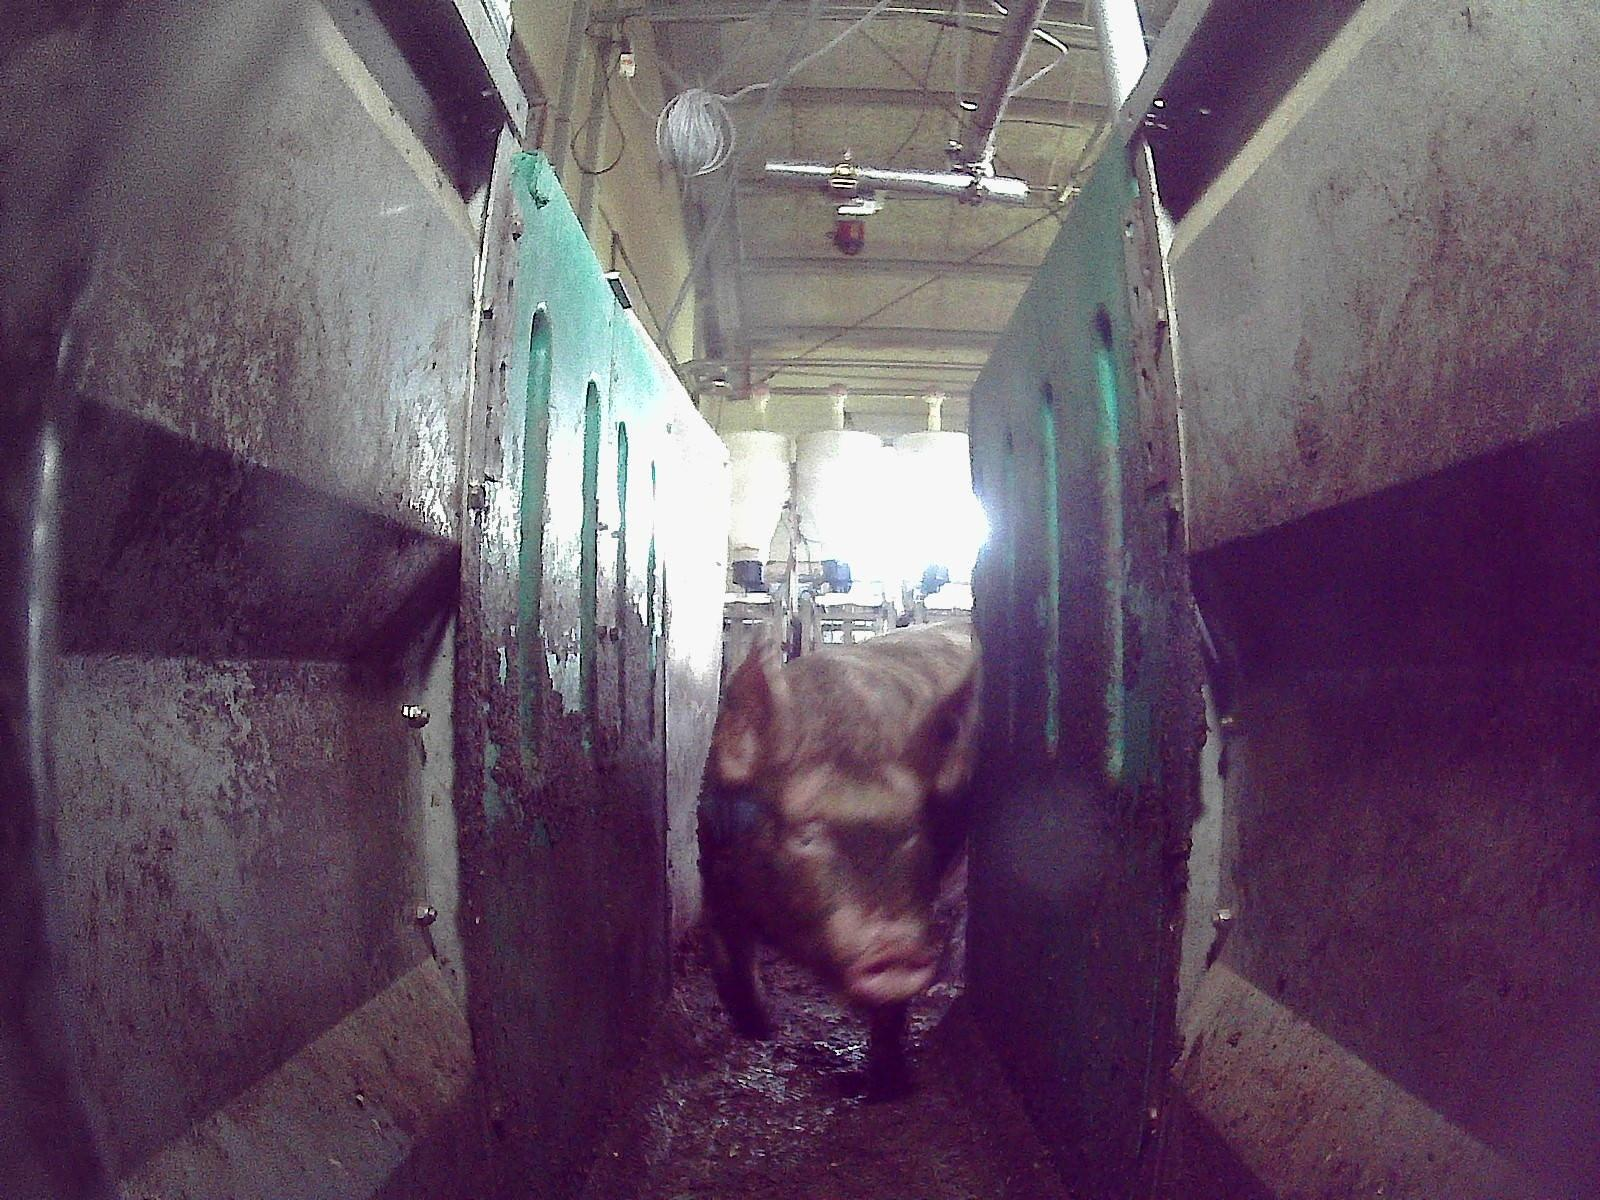Face: (736, 737, 938, 1007)
